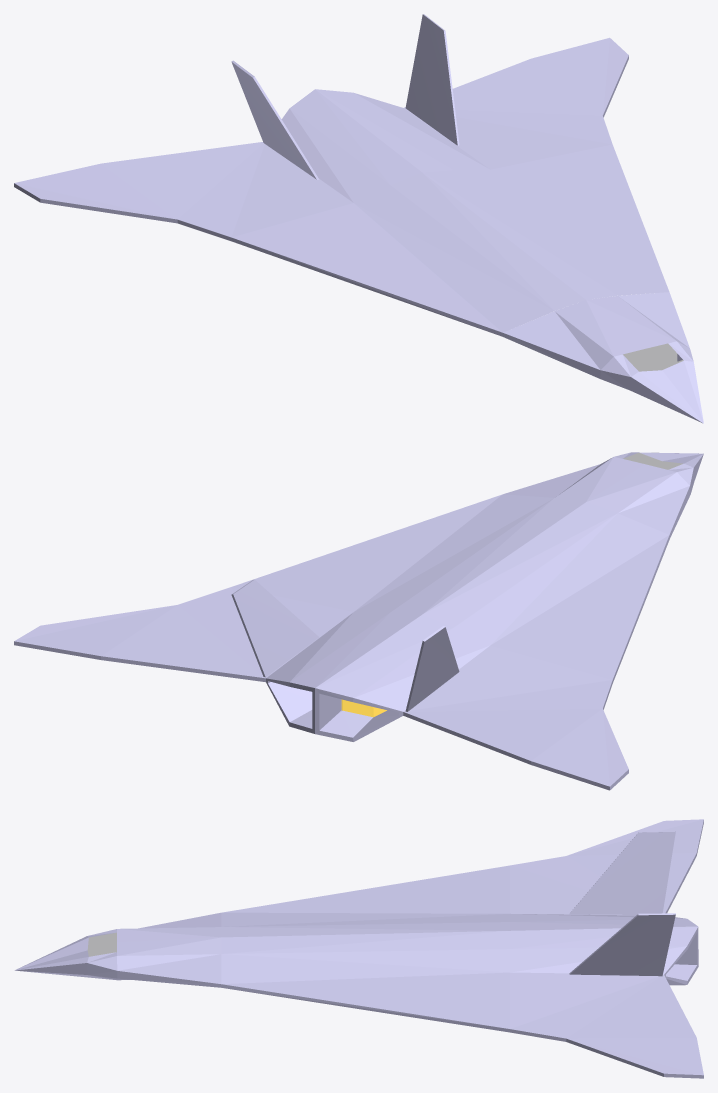
Rendered from Avion.gltf.
3 views of the same model, one above another, from view 1: azimuth 30°, elevation 25°; view 2: azimuth 150°, elevation 25°; view 3: azimuth 270°, elevation 25° (orthographic). The views are drawn at different scales.
Visible parts, largest first — view 1: avion-Avion, ailerons, avion-Vitre; view 2: avion-Avion, ailerons; view 3: avion-Avion, ailerons, avion-Vitre.
Boxes of the visible parts, x1=… form: avion-Avion: x1=14, y1=37, x2=703, y2=423; ailerons: x1=231, y1=14, x2=459, y2=179; avion-Vitre: x1=623, y1=344, x2=683, y2=371; avion-Avion: x1=14, y1=452, x2=703, y2=790; ailerons: x1=231, y1=579, x2=459, y2=711; avion-Avion: x1=14, y1=819, x2=703, y2=1078; ailerons: x1=569, y1=831, x2=675, y2=976; avion-Vitre: x1=88, y1=933, x2=116, y2=956.
Bounding box in the file's own units: 573 × 112 × 653.
